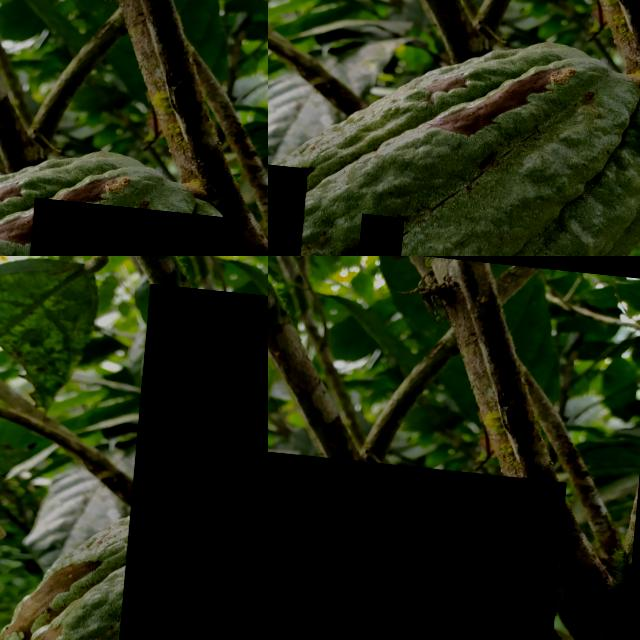Sana: (268, 432, 570, 640), (120, 278, 268, 640), (24, 190, 243, 256), (268, 160, 314, 256), (363, 207, 411, 256), (324, 40, 358, 80), (596, 26, 621, 55), (622, 88, 638, 117), (456, 129, 473, 153), (574, 46, 588, 72), (427, 127, 441, 150), (448, 125, 460, 149)
